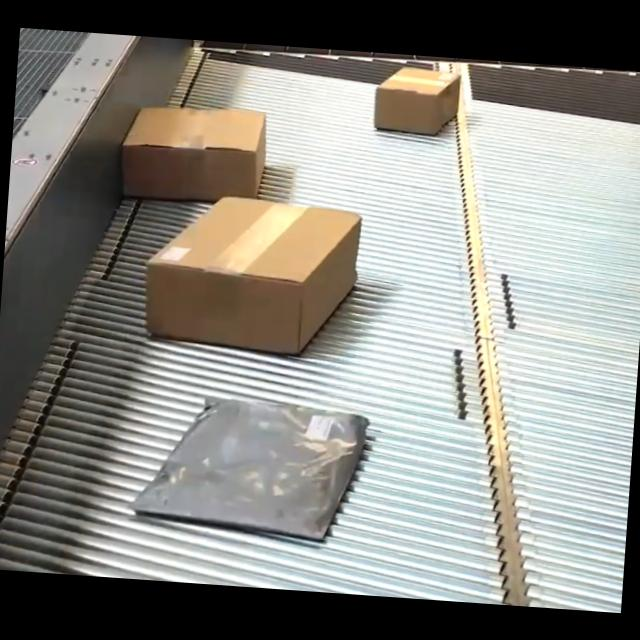box: (144, 190, 360, 360), (118, 105, 273, 199), (374, 62, 464, 147)
mailer: (134, 387, 367, 546)
